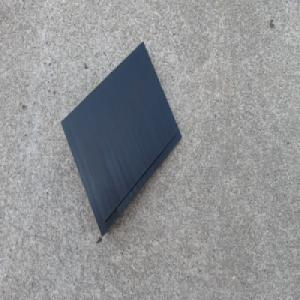PlasticPart: (60, 39, 181, 237)
